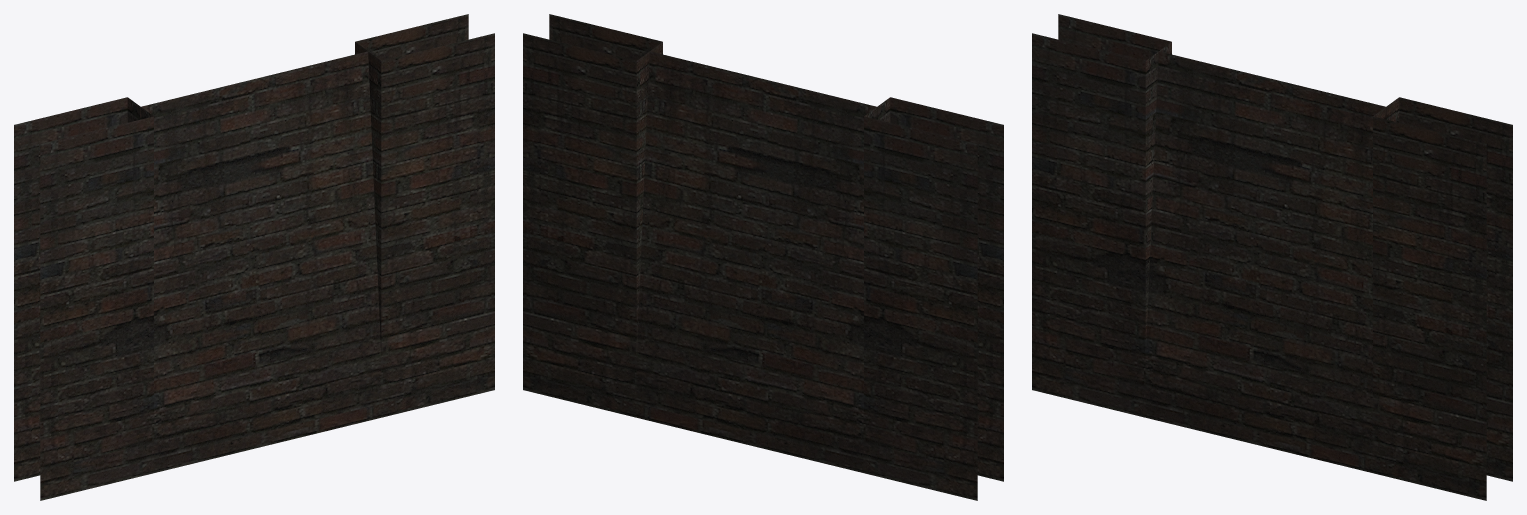
The model's file is wall_hs_1_t_1.dae.
3 renders of one model, left to right at view 1: azimuth 30°, elevation 25°; view 2: azimuth 150°, elevation 25°; view 3: azimuth 330°, elevation 25°, orthographic.
Parts seen in each view (by area): view 1: wall_hs_1_t_1; view 2: wall_hs_1_t_1; view 3: wall_hs_1_t_1.
Boxes of the visible parts, bbox=[...] form: wall_hs_1_t_1: bbox=[14, 14, 494, 500]; wall_hs_1_t_1: bbox=[523, 14, 1003, 500]; wall_hs_1_t_1: bbox=[1032, 14, 1512, 500].
Size of the model in its own units: 4 by 0.4 by 3.
Materials: 1 (1 with a texture image).
